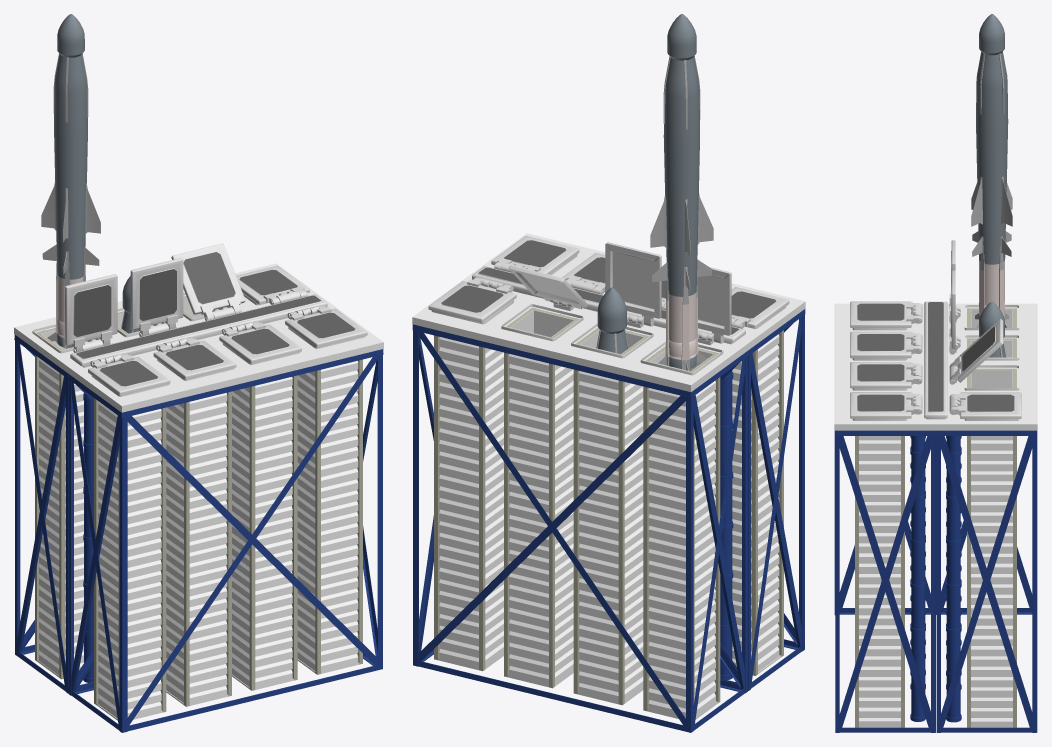
The model's file is vertical_launch_system_missile_canisters.glb.
3 views of the same model, side by side, from view 1: azimuth 30°, elevation 25°; view 2: azimuth 150°, elevation 25°; view 3: azimuth 270°, elevation 25° (orthographic). The views are drawn at different scales.
Visible parts, largest first — view 1: Silos.001_10, Trusses.001_12, Silos_0, Missile_25, Trusses_2, Covers.001_13, SmokeVent_20, TrapdoorC_8, TrapdoorB_7, TrapdoorA_6, Covers_3, Pipes_5 (+9 smaller); view 2: Silos_0, Trusses_2, Silos.001_10, Missile_25, Covers_3, Trusses.001_12, TrapdoorB_7, Pipes.001_15, TrapdoorD_9, TrapdoorA_6, Covers.001_13, TrapdoorH_16 (+9 smaller); view 3: Silos_0, Silos.001_10, Trusses_2, Trusses.001_12, Missile_25, Covers_3, Covers.001_13, Pipes_5, Pipes.001_15, SmokeVent_20, TrapdoorF_18, TrapdoorD_9 (+10 smaller).
Part boxes in pixels (x1,y1,x2,y2): Silos.001_10: [94, 359, 362, 720]; Trusses.001_12: [68, 349, 383, 732]; Silos_0: [35, 296, 228, 679]; Missile_25: [54, 14, 87, 347]; Trusses_2: [14, 334, 93, 693]; Covers.001_13: [68, 303, 383, 412]; SmokeVent_20: [70, 294, 327, 367]; TrapdoorC_8: [171, 243, 245, 320]; TrapdoorB_7: [130, 258, 183, 336]; TrapdoorA_6: [65, 274, 117, 352]; Covers_3: [14, 263, 329, 372]; Pipes_5: [83, 393, 93, 682]; Silos_0: [434, 307, 720, 719]; Trusses_2: [412, 324, 748, 732]; Silos.001_10: [732, 330, 783, 675]; Missile_25: [663, 14, 699, 368]; Covers_3: [412, 275, 748, 391]; Trusses.001_12: [720, 309, 805, 690]; TrapdoorB_7: [605, 242, 661, 326]; Pipes.001_15: [720, 370, 733, 679]; TrapdoorD_9: [428, 277, 516, 322]; TrapdoorA_6: [697, 267, 731, 343]; Covers.001_13: [470, 233, 805, 349]; TrapdoorH_16: [491, 236, 579, 274]; Silos_0: [967, 308, 1016, 727]; Silos.001_10: [855, 436, 904, 727]; Trusses_2: [936, 430, 1037, 732]; Trusses.001_12: [834, 430, 935, 732]; Missile_25: [976, 14, 1008, 320]; Covers_3: [936, 303, 1037, 430]; Covers.001_13: [834, 303, 935, 430]; Pipes_5: [946, 436, 961, 722]; Pipes.001_15: [910, 436, 925, 721]; SmokeVent_20: [924, 301, 947, 419]; TrapdoorF_18: [850, 331, 922, 358]; TrapdoorD_9: [949, 392, 1021, 418].
Size of the model in its own units: 12.58 by 29.82 by 8.95.
